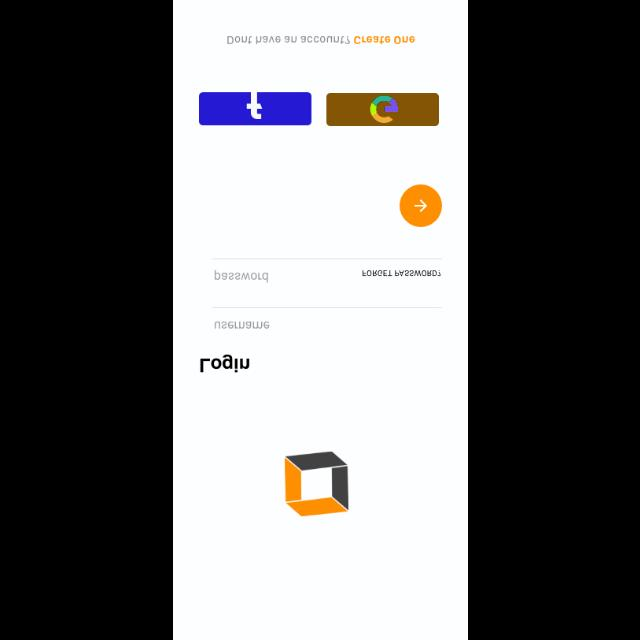icon: (400, 184, 442, 226)
image: (284, 452, 348, 516)
input: (210, 258, 442, 282), (210, 307, 442, 329)
text: (227, 36, 415, 44), (200, 354, 250, 372), (214, 270, 268, 282), (362, 270, 440, 276), (214, 322, 270, 328)
textbutton: (326, 92, 438, 126), (198, 92, 312, 125)
